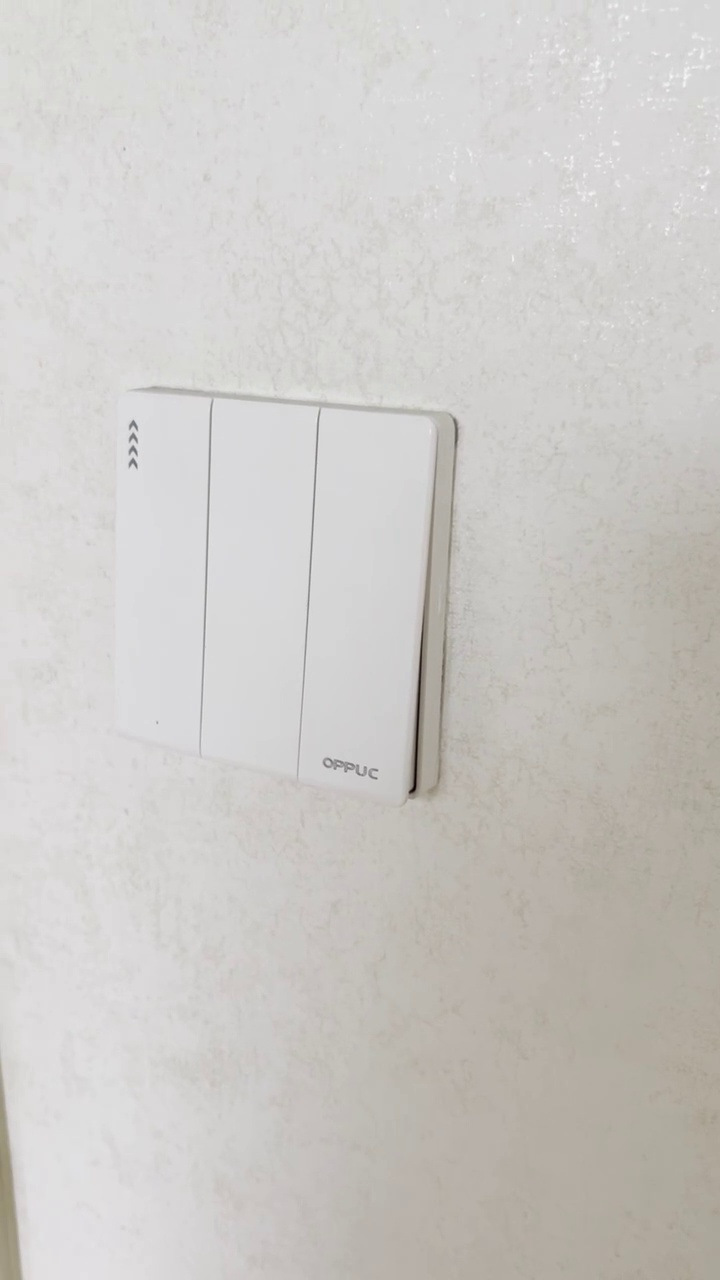button1: (304, 412, 431, 785), (202, 402, 313, 765), (119, 397, 208, 750)
